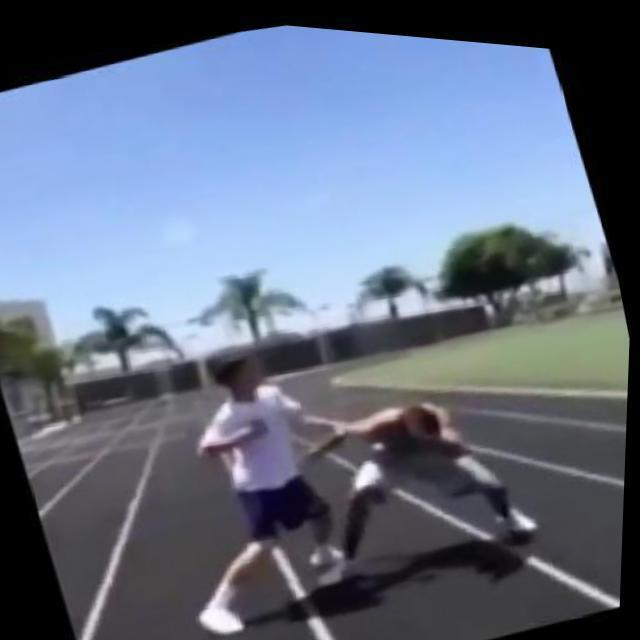fight: (137, 271, 563, 640)
